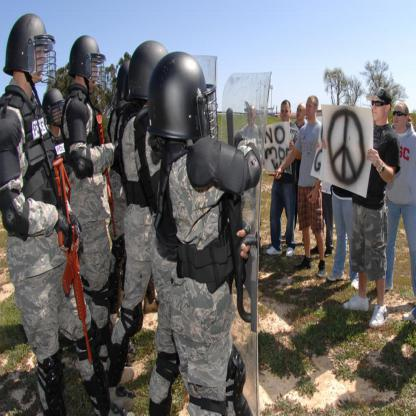face: (29, 41, 47, 80), (87, 52, 100, 87), (373, 94, 387, 121), (394, 105, 407, 129), (53, 101, 65, 126), (307, 99, 316, 119), (282, 104, 290, 123), (248, 109, 256, 124), (297, 107, 305, 121)
